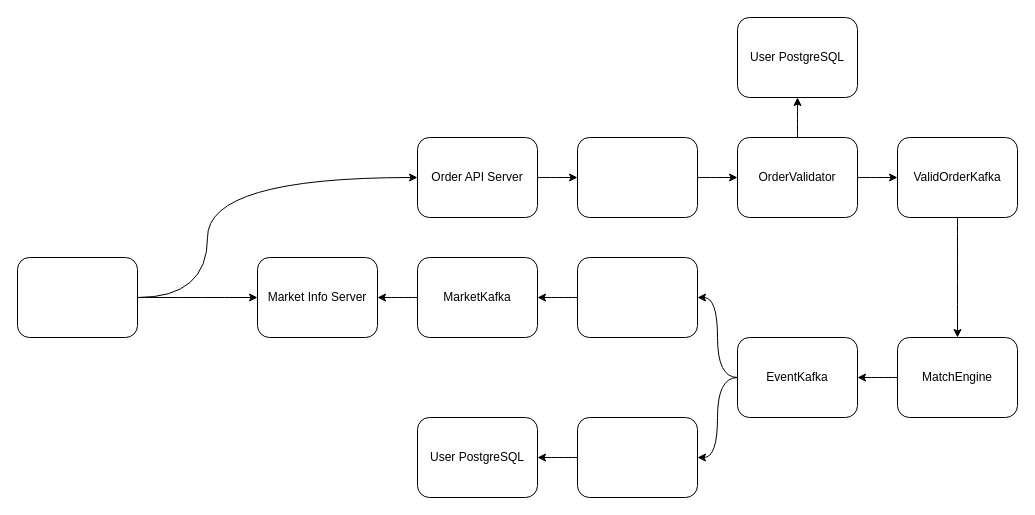
This 1035x515 diagram has some shape labels left out. The centre of each missing label's shape, as x and y in pixels:
Client: the point at 77,297
DBUpdater: the point at 637,457
MarketUpdater: the point at 637,297
OrderKafka: the point at 637,177
